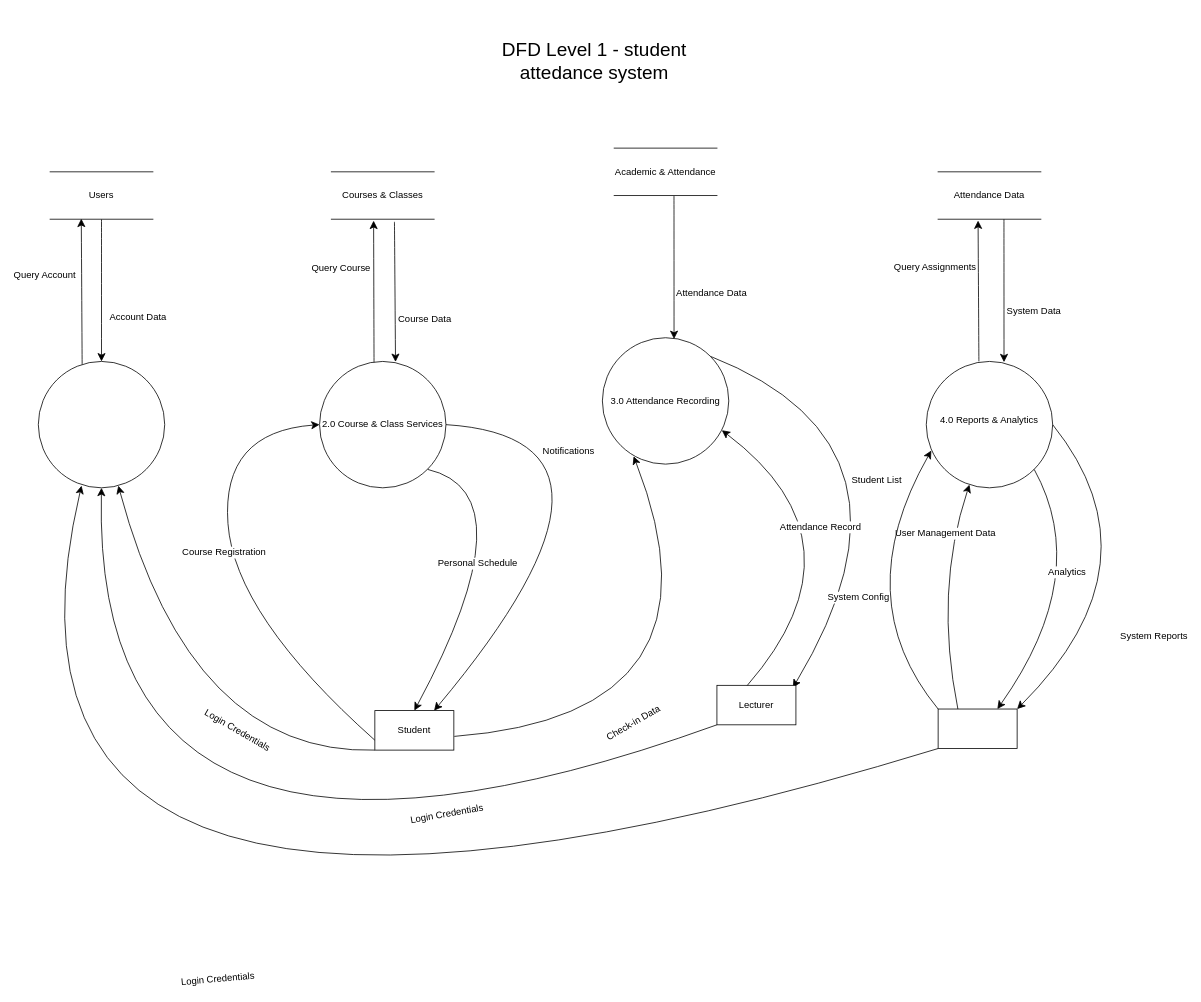
Some shapes in this 1201 by 1002 pixel diagram are drawn without their labels. Each missing label, with the centre of its shape:
"1.0 Account Management" belongs at point (101, 424).
"Admin" belongs at point (977, 728).
